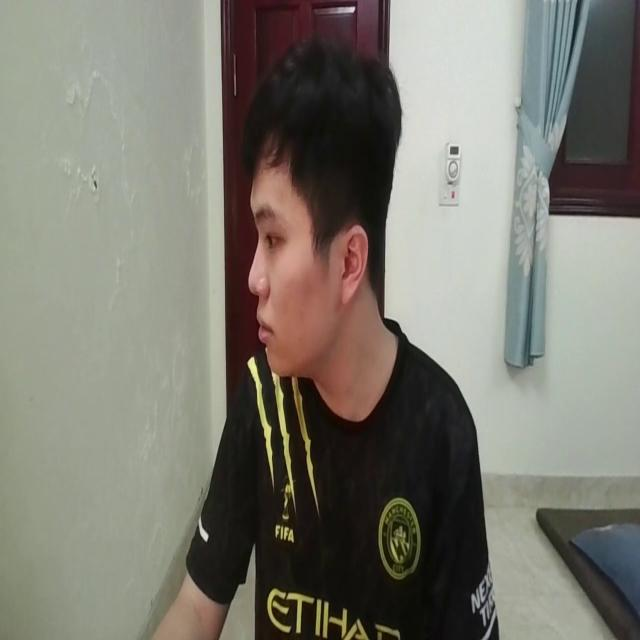student: (150, 31, 498, 640)
